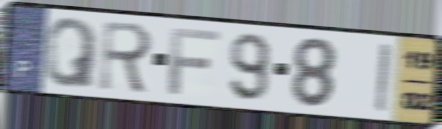8: (292, 36, 339, 110)
9: (228, 31, 272, 103)
F: (167, 26, 223, 97)
I: (373, 41, 392, 115)
Q: (42, 16, 100, 90)
R: (96, 18, 156, 97)
